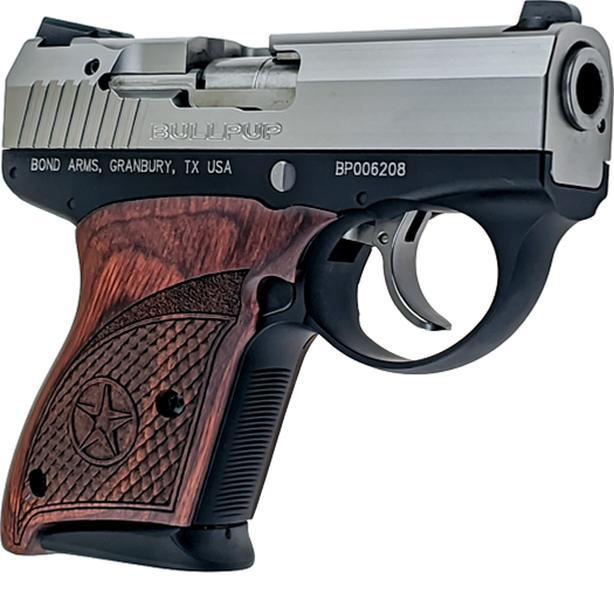Firearm: (0, 10, 614, 584)
